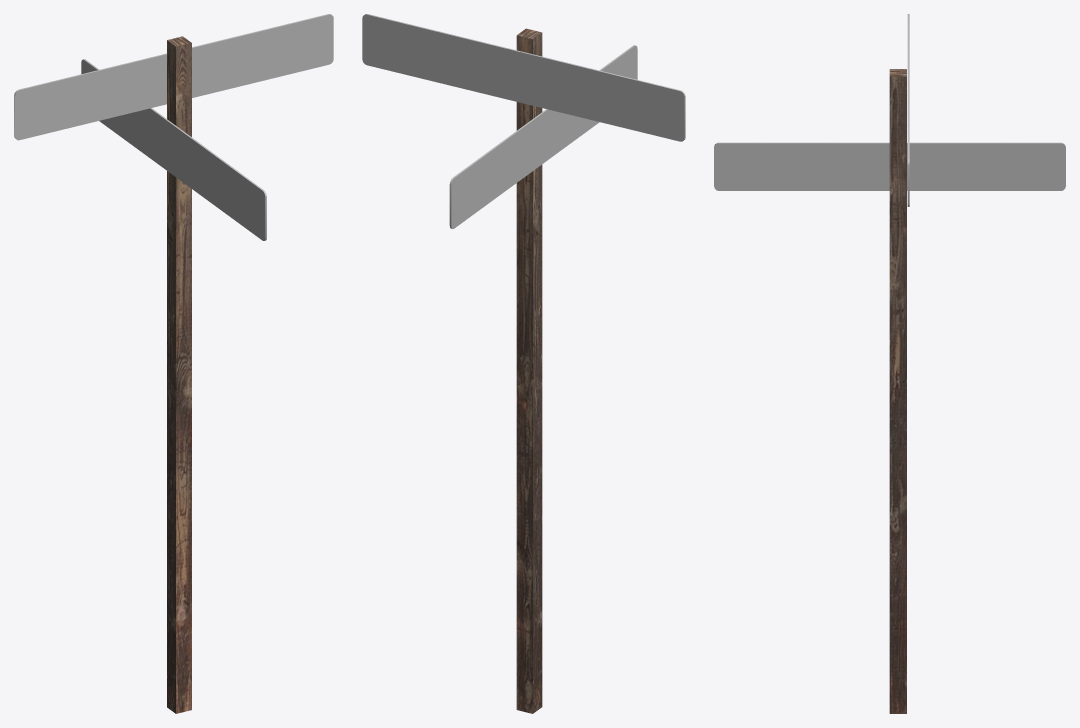
File: YOS_Sign_33.fbx
3 views of the same model, side by side, from view 1: azimuth 30°, elevation 25°; view 2: azimuth 150°, elevation 25°; view 3: azimuth 270°, elevation 25° (orthographic). The views are drawn at different scales.
Visible parts, largest first — view 1: WoodPost_2, Village_Dr, Northside_Dr; view 2: Village_Dr, WoodPost_2, Northside_Dr; view 3: Northside_Dr, WoodPost_2, Village_Dr.
Part boxes in pixels (x1,y1,x2,y2): WoodPost_2: (167, 36, 191, 713); Village_Dr: (14, 14, 333, 140); Northside_Dr: (81, 59, 266, 240); Village_Dr: (362, 14, 685, 141); WoodPost_2: (516, 28, 542, 713); Northside_Dr: (449, 45, 637, 229); Northside_Dr: (714, 142, 1065, 190); WoodPost_2: (889, 69, 906, 713); Village_Dr: (907, 14, 909, 206).
Size of the model in its own units: 100 by 200 by 100.
